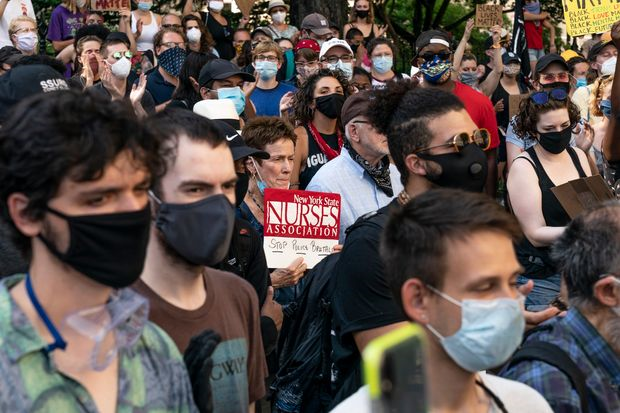mask_weared_incorrect: (242, 141, 301, 201)
with_mask: (15, 163, 154, 278), (406, 262, 529, 375), (159, 163, 237, 264), (398, 114, 492, 193), (306, 76, 346, 120), (533, 112, 575, 152), (416, 44, 455, 82), (101, 42, 134, 79), (249, 49, 283, 80), (369, 43, 400, 73), (182, 18, 204, 43)
